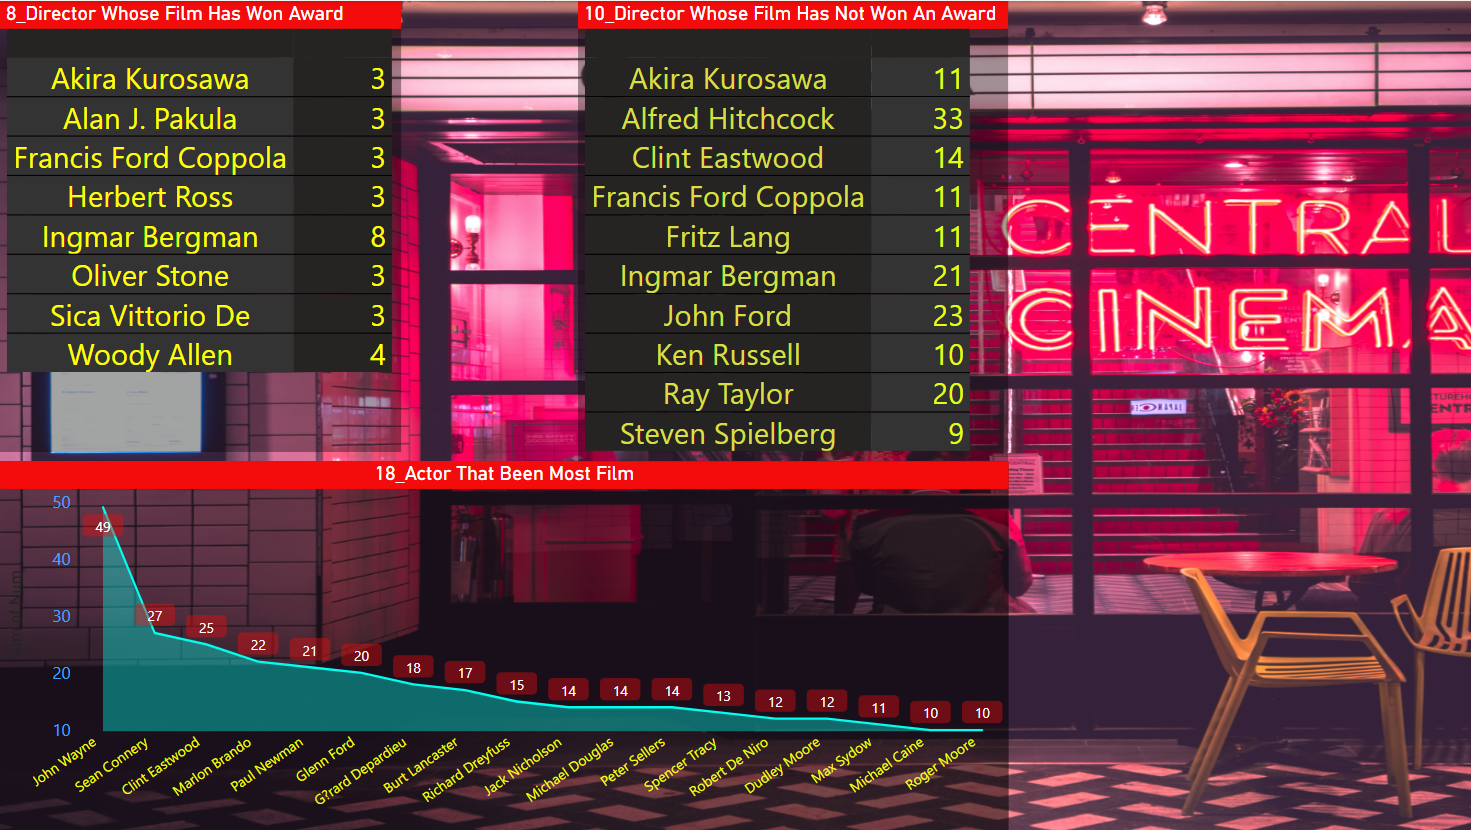

What the dashboard file says about the page in this screenshot:
{"tool":"powerbi","page":{"name":"Page 2","canvas":[1280,720],"ordinal":1},"visuals":[{"type":"areaChart","title":"18_Actor That Been Most Film","fields":{"Category":["18_Actor_MostFilm.Name"],"Y":["18_Actor_MostFilm.Num"]},"box":[0,396.8,869.7,323.2],"z":0},{"type":"tableEx","title":"10_Director Whose Film Has Not Won  An Award ","fields":{"Values":["Dir_Not_Prize.Name","Dir_Not_Prize.Num"]},"box":[498.6,0,371.1,396.8],"z":1000},{"type":"tableEx","title":"8_Director Whose Film Has Won Award","fields":{"Values":["Dir_Prize.Name","Dir_Prize.Num"]},"box":[0,0,346.3,388.8],"z":2000}]}

Visuals, with their boxes in screenshot pixels (x1, y1, x2, y2), scaled from the page's 1280x720 canvas onto the 1471x830 screenshot:
"18_Actor That Been Most Film" areaChart: {"left": 0, "top": 457, "right": 999, "bottom": 829}
"10_Director Whose Film Has Not Won  An Award " tableEx: {"left": 573, "top": 0, "right": 999, "bottom": 457}
"8_Director Whose Film Has Won Award" tableEx: {"left": 0, "top": 0, "right": 398, "bottom": 448}
